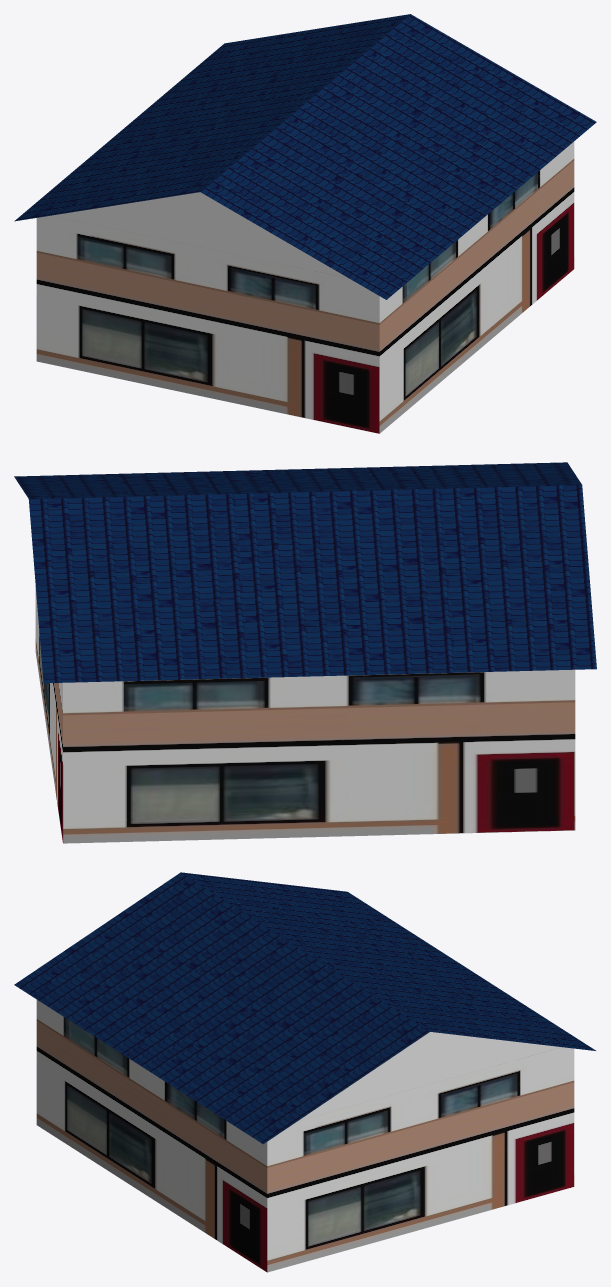
The picture shows the model from 3 angles, top to bottom: view 1: azimuth 30°, elevation 25°; view 2: azimuth 150°, elevation 25°; view 3: azimuth 270°, elevation 25°; orthographic projection. The views are drawn at different scales.
Parts seen in each view (by area): view 1: CityEngineMaterial_6_m, CityEngineMaterial_5_m, CityEngineMaterial_3_m; view 2: CityEngineMaterial_6_m, CityEngineMaterial_5_m; view 3: CityEngineMaterial_6_m, CityEngineMaterial_5_m, CityEngineMaterial_3_m.
Part boxes in pixels (<box>): CityEngineMaterial_6_m: <box>14,14,596,299</box>; CityEngineMaterial_5_m: <box>36,141,574,433</box>; CityEngineMaterial_3_m: <box>52,192,348,278</box>; CityEngineMaterial_6_m: <box>14,462,596,683</box>; CityEngineMaterial_5_m: <box>35,587,575,843</box>; CityEngineMaterial_6_m: <box>14,872,595,1144</box>; CityEngineMaterial_5_m: <box>36,1000,574,1272</box>; CityEngineMaterial_3_m: <box>299,1032,561,1120</box>.
Bounding box in the file's own units: 35.44 × 13.33 × 34.56.
